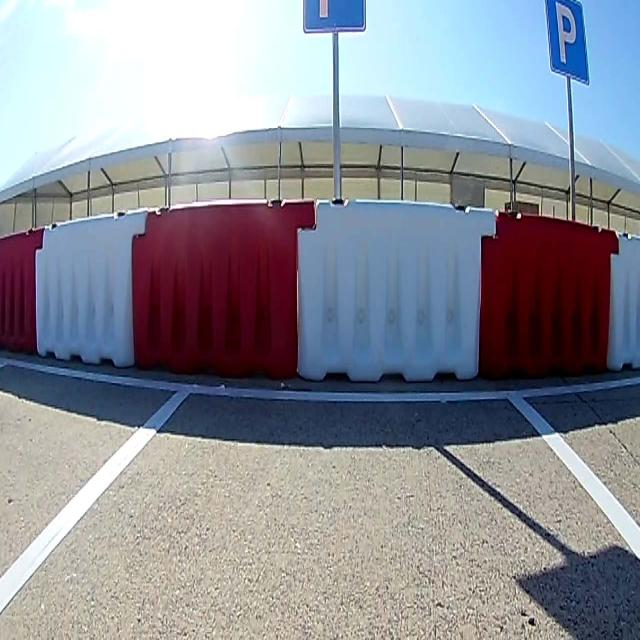park: (544, 1, 590, 83)
